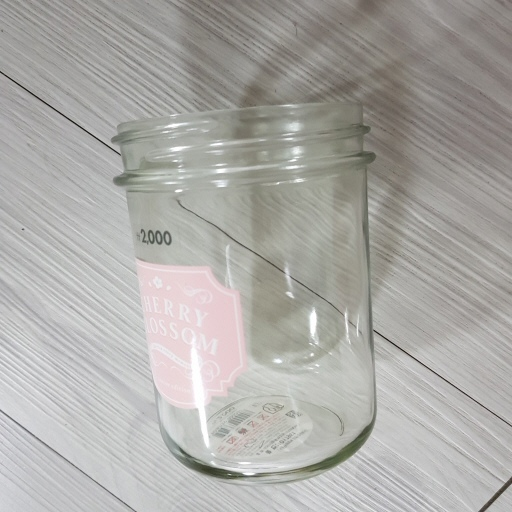Glass_5: (107, 94, 380, 482)
